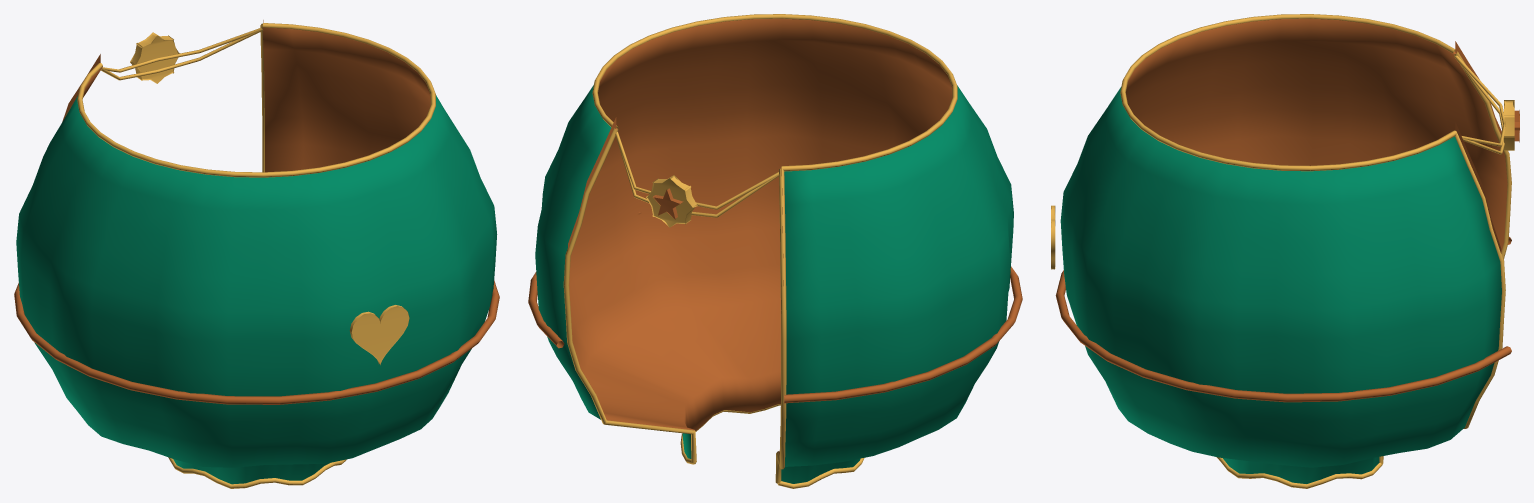
The model's file is velvet-court-pawn.glb.
3 renders of one model, left to right at view 1: azimuth 30°, elevation 25°; view 2: azimuth 150°, elevation 25°; view 3: azimuth 270°, elevation 25°, orthographic.
Parts seen in each view (by area): view 1: tailored_cloth, court_sash, tailored_gold_binding, back_heraldry, brooch_gold, tailored_gold_binding.001, clasp_chain, clasp_chain.001; view 2: tailored_cloth, tailored_gold_binding, court_sash, tailored_gold_binding.002, tailored_gold_binding.003, brooch_gold, tailored_gold_binding.001, clasp_chain, clasp_chain.001; view 3: tailored_cloth, court_sash, tailored_gold_binding, tailored_gold_binding.002, tailored_gold_binding.001, tailored_gold_binding.003, brooch_gold, clasp_chain.
Part boxes in pixels (x1,y1,x2,y2): tailored_cloth: [16, 27, 497, 484]; court_sash: [14, 280, 499, 404]; tailored_gold_binding: [77, 23, 435, 177]; back_heraldry: [349, 305, 409, 364]; brooch_gold: [130, 32, 179, 83]; tailored_gold_binding.001: [168, 457, 346, 488]; clasp_chain: [101, 28, 262, 72]; clasp_chain.001: [101, 29, 263, 80]; tailored_cloth: [535, 18, 1013, 483]; tailored_gold_binding: [592, 14, 957, 171]; court_sash: [528, 212, 1022, 403]; tailored_gold_binding.002: [563, 128, 696, 462]; tailored_gold_binding.003: [775, 168, 786, 483]; brooch_gold: [646, 175, 697, 227]; tailored_gold_binding.001: [680, 404, 864, 488]; clasp_chain: [615, 131, 778, 209]; clasp_chain.001: [615, 136, 778, 217]; tailored_cloth: [1060, 18, 1507, 483]; court_sash: [1055, 237, 1511, 402]; tailored_gold_binding: [1120, 14, 1457, 171]; tailored_gold_binding.002: [1379, 133, 1505, 463]; tailored_gold_binding.001: [1216, 457, 1382, 488]; tailored_gold_binding.003: [1454, 51, 1511, 258]; brooch_gold: [1504, 100, 1514, 150]; clasp_chain: [1454, 55, 1504, 146].
Size of the model in its own units: 0.3752 by 0.3098 by 0.3566.
